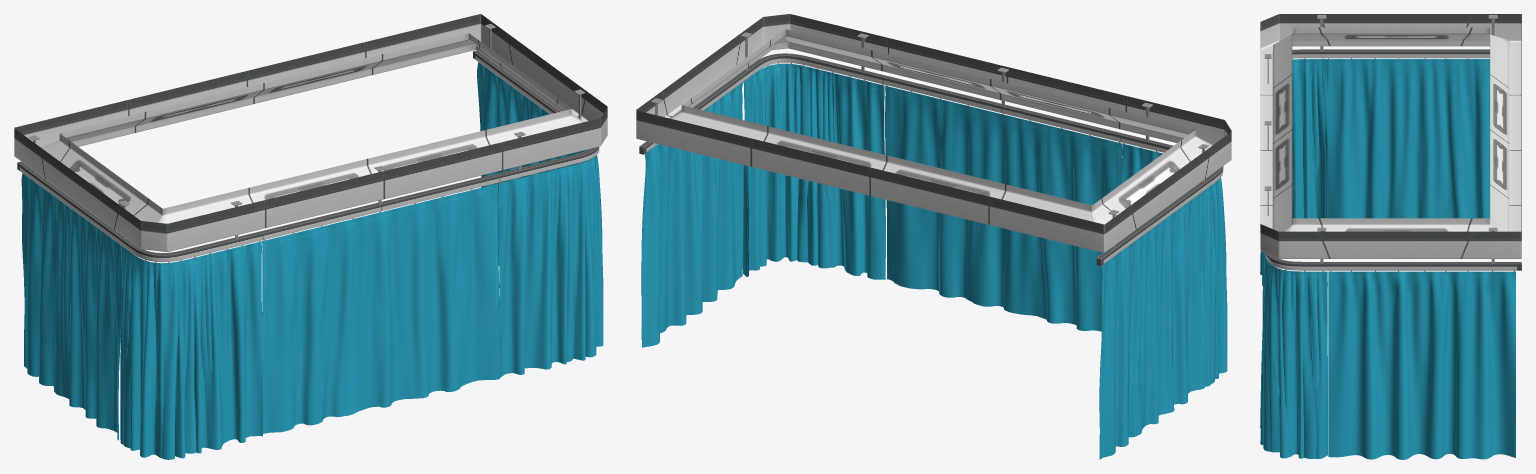
File: MedDivider02_1.FBX
3 views of the same model, side by side, from view 1: azimuth 30°, elevation 25°; view 2: azimuth 150°, elevation 25°; view 3: azimuth 270°, elevation 25° (orthographic). The views are drawn at different scales.
Parts seen in each view (by area): view 1: Base1, Curtain1_4, Curtain1_2, Curtain1_1, Curtain1_3, Profile1; view 2: Base1, Curtain1_1, Curtain1_4, Curtain1_2, Curtain1_3, Profile1; view 3: Curtain1_1, Base1, Curtain1_3, Curtain1_2, Profile1.
Part boxes in pixels (x1,y1,x2,y2): Base1: (14,14,607,251); Curtain1_4: (262,183,499,433); Curtain1_2: (122,150,599,459); Curtain1_1: (21,62,575,440); Curtain1_3: (120,149,603,458); Profile1: (17,24,599,263); Base1: (636,14,1231,252); Curtain1_1: (641,82,1205,459); Curtain1_4: (885,85,1122,331); Curtain1_2: (744,63,1224,383); Curtain1_3: (742,63,1227,386); Profile1: (639,32,1223,266); Curtain1_1: (1325,59,1515,459); Base1: (1260,14,1521,258); Curtain1_3: (1260,59,1327,458); Curtain1_2: (1260,59,1325,458); Profile1: (1264,15,1521,272).
Size of what is drawn, in the model's own units: 6.92 by 3.37 by 3.5.
